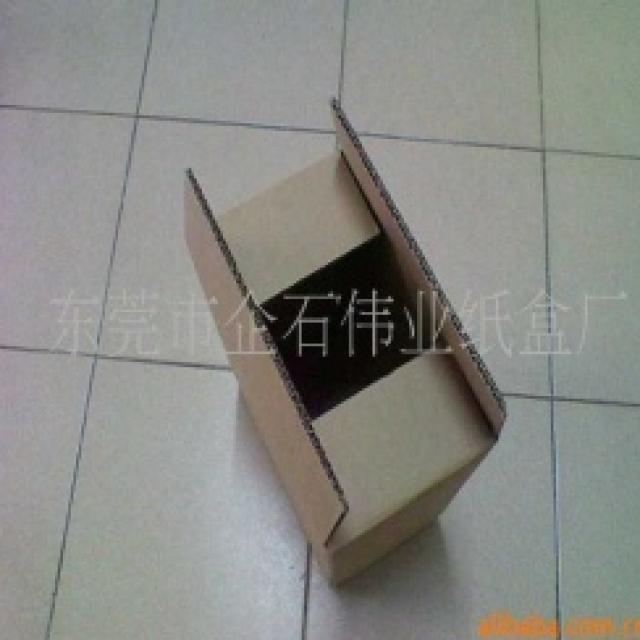box: (175, 134, 506, 596)
